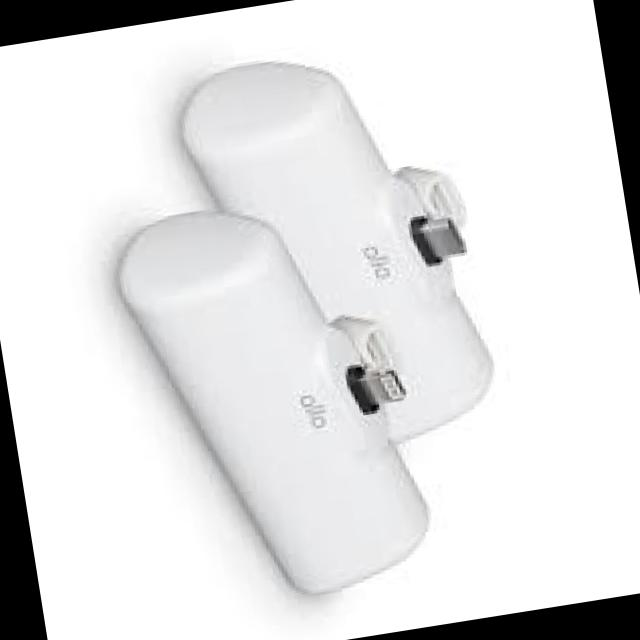portable-charger: (172, 31, 510, 479), (102, 183, 440, 629)
